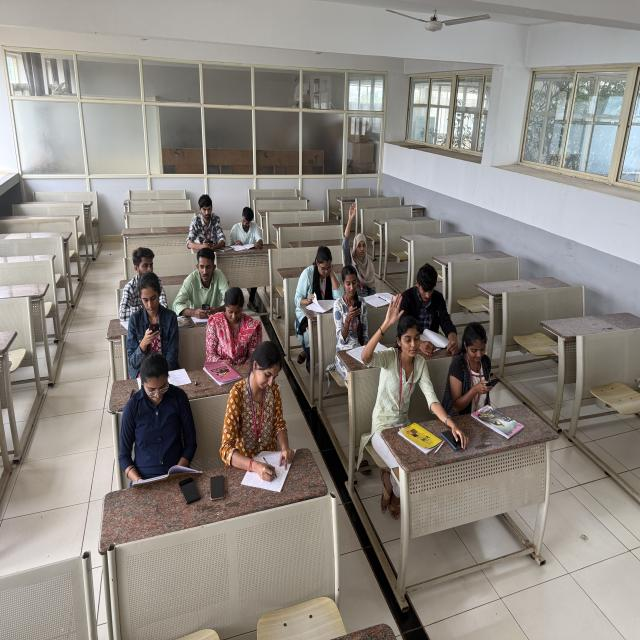Hand Rising: (367, 296, 438, 430), (321, 180, 384, 292)
Reading: (106, 364, 203, 484), (399, 228, 458, 344), (271, 232, 342, 327), (229, 200, 271, 262)
Using Phone: (449, 303, 517, 422), (200, 281, 282, 368), (113, 268, 182, 371), (184, 181, 233, 268), (334, 260, 370, 370), (173, 246, 226, 319)
Writing: (220, 348, 310, 474)
